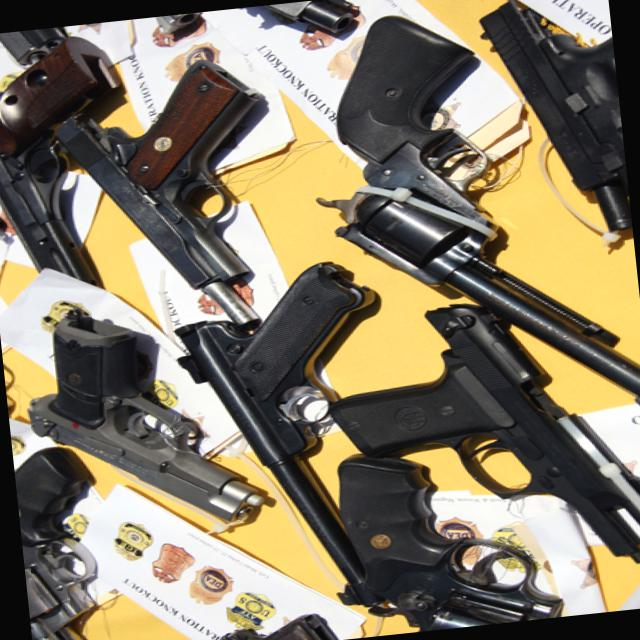handgun: (287, 0, 639, 450), (320, 277, 639, 594), (168, 254, 406, 626), (9, 282, 281, 554), (46, 53, 283, 340)
